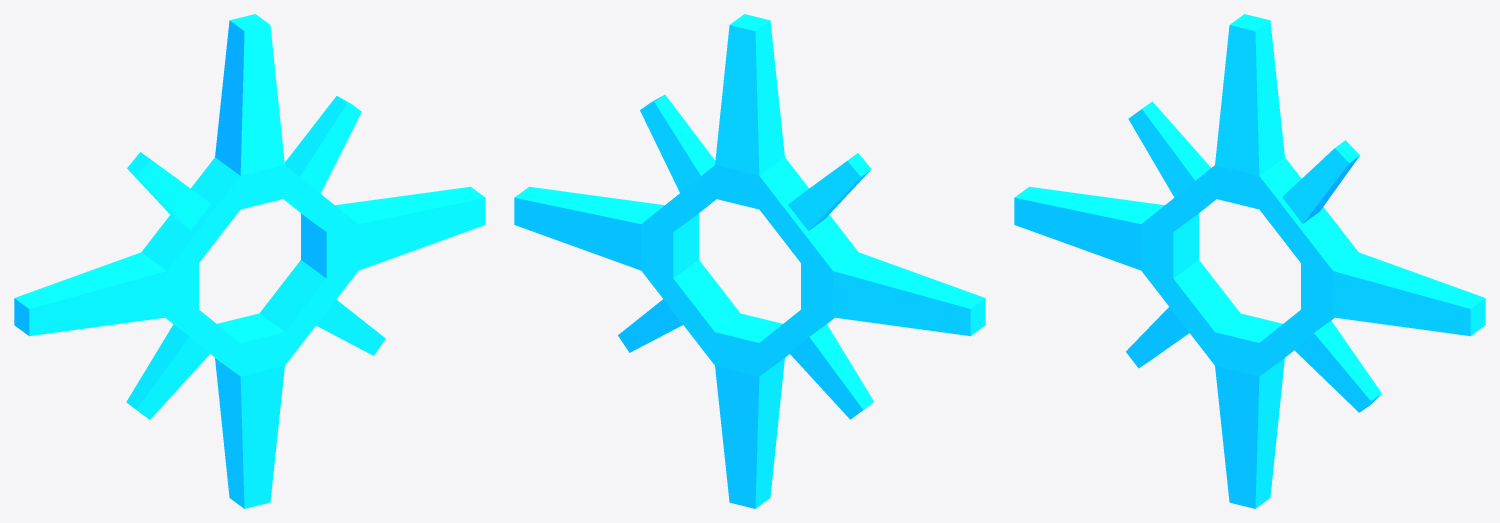
The model's file is Snowflake.fbx.
3 renders of one model, left to right at view 1: azimuth 30°, elevation 25°; view 2: azimuth 150°, elevation 25°; view 3: azimuth 330°, elevation 25°, orthographic.
Parts seen in each view (by area): view 1: Snowflake; view 2: Snowflake; view 3: Snowflake.
Part boxes in pixels (<box>): Snowflake: <box>14,14,485,508</box>; Snowflake: <box>514,14,985,508</box>; Snowflake: <box>1014,14,1485,508</box>.
Size of the model in its own units: 75.25 by 75.25 by 7.32.
